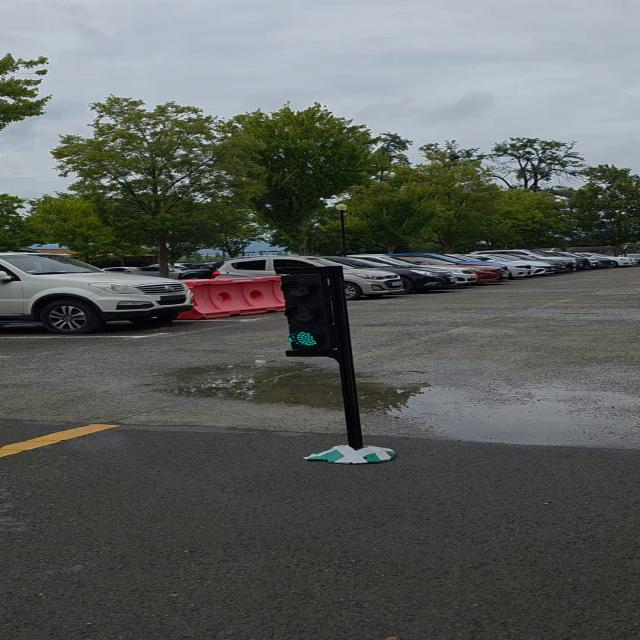green: (276, 265, 351, 361)
